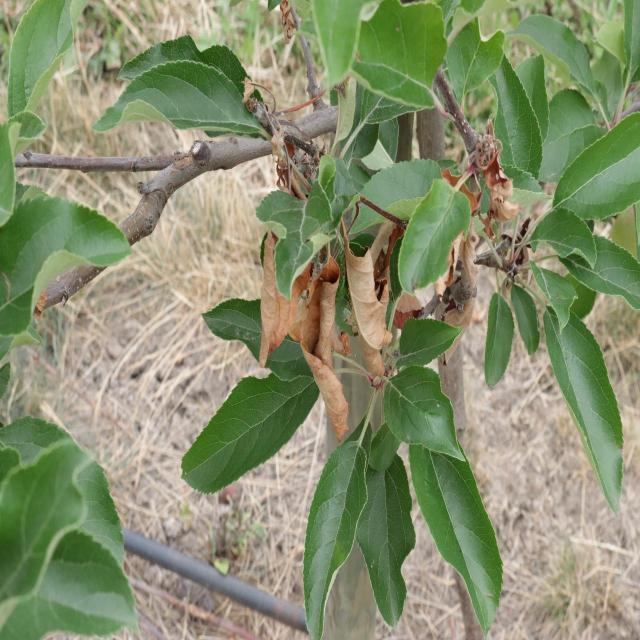-FireBlight-: (265, 229, 390, 427), (450, 136, 508, 339)
